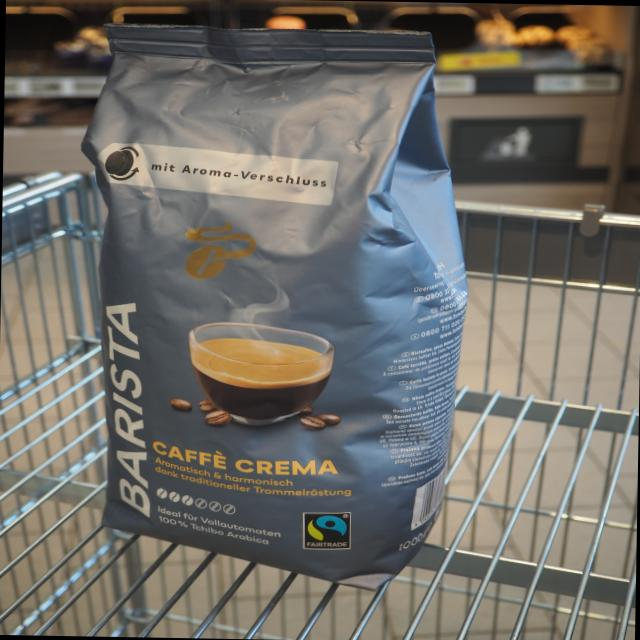Barista CC: (64, 1, 498, 604)
